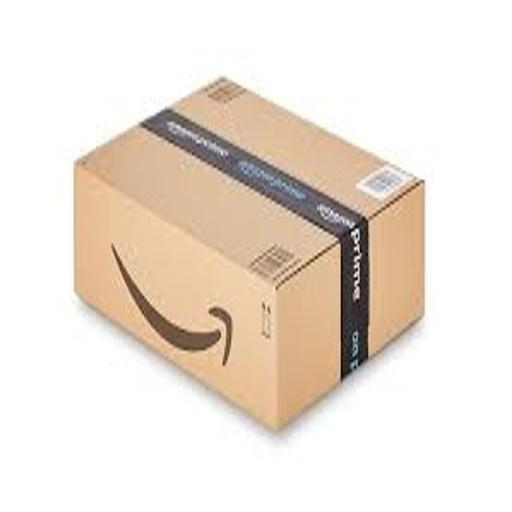Amazon: (72, 73, 431, 439)
